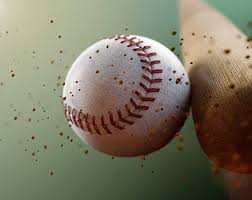baseball bat: (177, 1, 252, 173)
